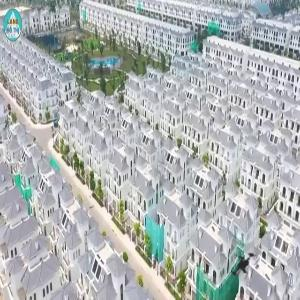drone: (213, 236, 271, 294)
